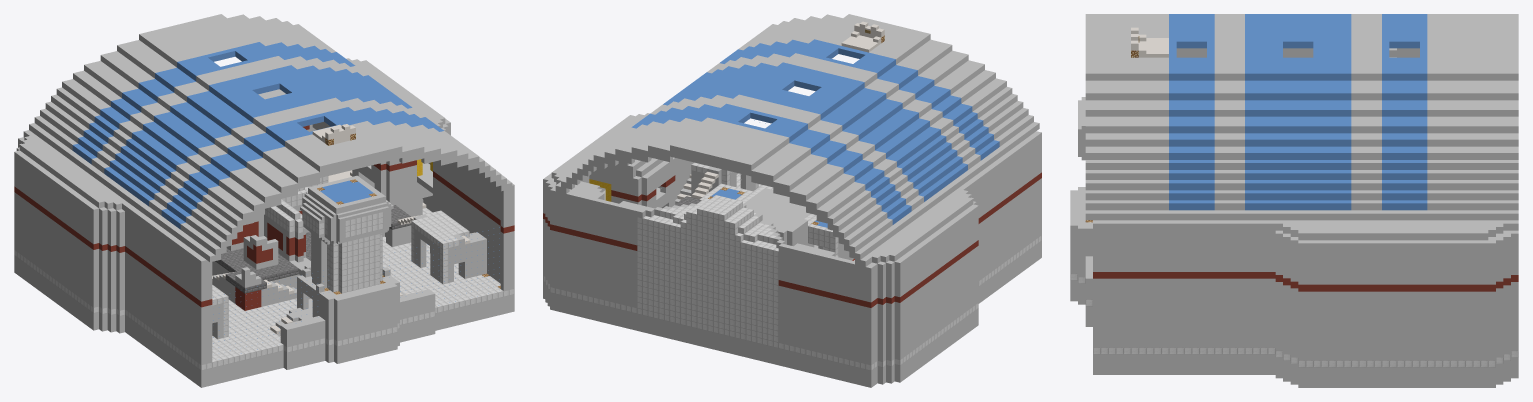
Rendered from minecraft.obj.
3 renders of one model, left to right at view 1: azimuth 30°, elevation 25°; view 2: azimuth 150°, elevation 25°; view 3: azimuth 270°, elevation 25°, orthographic. The views are drawn at different scales.
Bounding box in the file's own units: 65 × 36.5 × 59.
